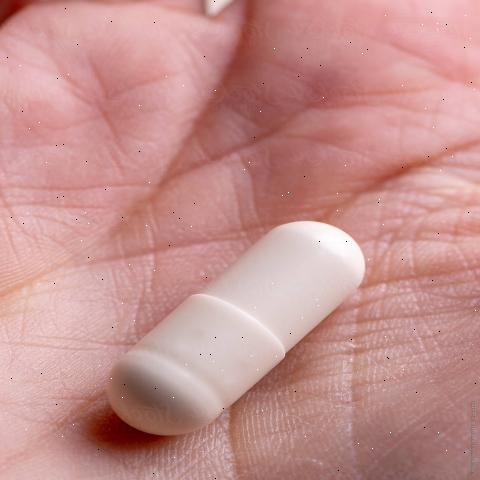Pill: (79, 211, 406, 447)
